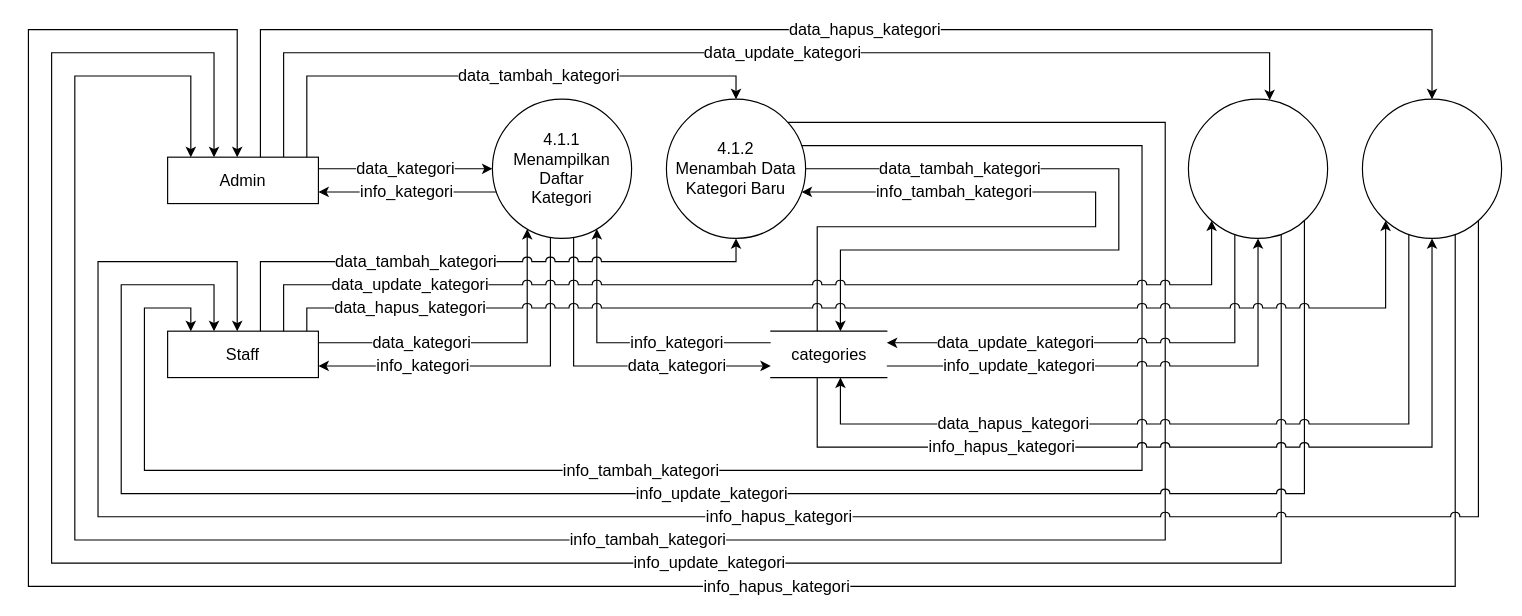
Some shapes in this 1522 by 616 pixel diagram are drawn without their labels. Here are the shapes that lost their labels. From the top down, the centre of each, then its label:
At pixel 1257 168: "4.1.3 Mengubah Data Kategori".
At pixel 1431 168: "4.1.4 Menghapus Data Kategori".
